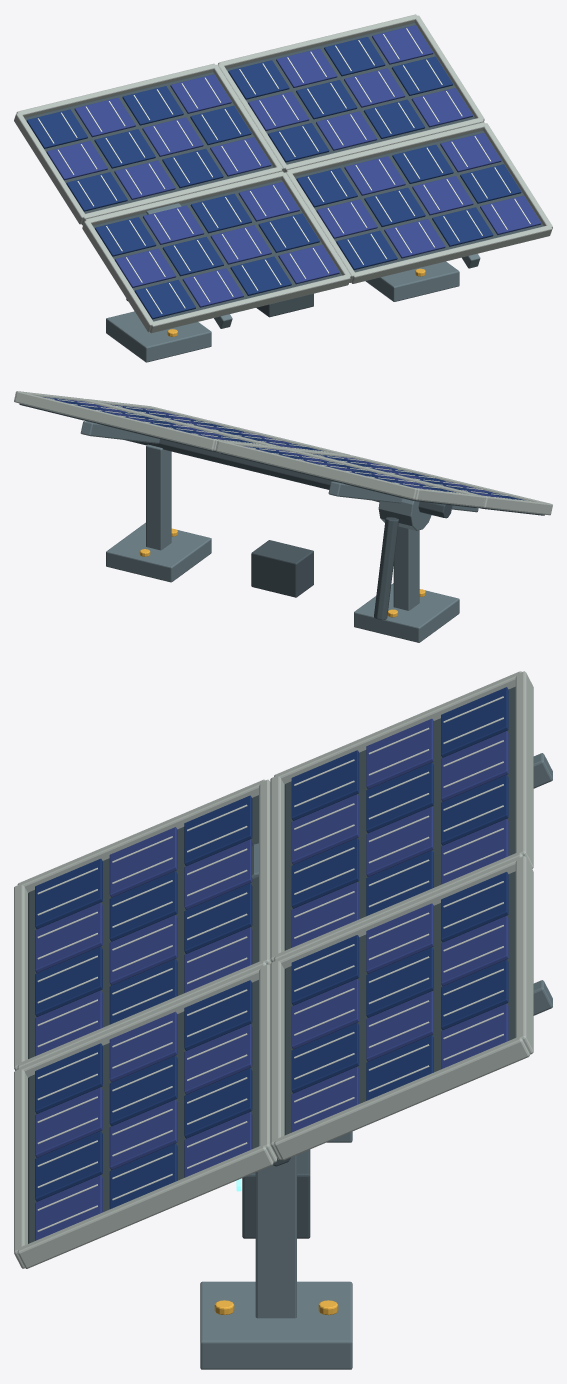
File: solar_panel_rack_d0.glb
3 renders of one model, top to bottom at view 1: azimuth 30°, elevation 25°; view 2: azimuth 150°, elevation 25°; view 3: azimuth 270°, elevation 25°, orthographic. The views are drawn at different scales.
Visible parts, largest first — view 1: PV_BACKING_002, PV_BACKING_001, PV_BACKING_003, PV_BACKING, RACK_ANCHOR_FOOTING, PANEL_ALUMINUM_END_FRAME, PANEL_ALUMINUM_END_FRAME_004, RACK_ANCHOR_FOOTING_001, PANEL_ALUMINUM_END_FRAME_003, PANEL_ALUMINUM_END_FRAME_007, PANEL_ALUMINUM_END_FRAME_005, PANEL_ALUMINUM_END_FRAME_001 (+59 smaller); view 2: RACK_ANCHOR_FOOTING_001, RACK_ANCHOR_FOOTING, RACK_JUNCTION_BOX, TRACKING_SUPPORT_MAST_001, PANEL_ALUMINUM_END_FRAME_003, PANEL_ALUMINUM_END_FRAME_007, TRACKING_AXLE, TRACKING_SUPPORT_MAST, TILT_ACTUATOR, TRACKING_DRIVE, REAR_MOUNTING_RAIL, PANEL_ALUMINUM_SIDE_FRAME (+8 smaller); view 3: RACK_ANCHOR_FOOTING_001, TRACKING_SUPPORT_MAST_001, PANEL_ALUMINUM_SIDE_FRAME_005, PANEL_ALUMINUM_SIDE_FRAME_007, PV_BACKING_003, PV_BACKING_001, PV_BACKING_002, PV_BACKING, PANEL_ALUMINUM_END_FRAME_007, PANEL_ALUMINUM_END_FRAME_003, PHOTOVOLTAIC_CELL_001, PHOTOVOLTAIC_CELL_004 (+59 smaller).
Part boxes in pixels (bbox=[...]): PV_BACKING_002: bbox=[294, 130, 543, 272]; PV_BACKING_001: bbox=[24, 72, 273, 213]; PV_BACKING_003: bbox=[226, 22, 475, 164]; PV_BACKING: bbox=[93, 179, 342, 321]; RACK_ANCHOR_FOOTING: bbox=[106, 311, 211, 362]; PANEL_ALUMINUM_END_FRAME: bbox=[150, 275, 350, 333]; PANEL_ALUMINUM_END_FRAME_004: bbox=[351, 225, 551, 283]; RACK_ANCHOR_FOOTING_001: bbox=[365, 261, 459, 301]; PANEL_ALUMINUM_END_FRAME_003: bbox=[16, 63, 215, 117]; PANEL_ALUMINUM_END_FRAME_007: bbox=[218, 14, 416, 68]; PANEL_ALUMINUM_END_FRAME_005: bbox=[286, 122, 485, 176]; PANEL_ALUMINUM_END_FRAME_001: bbox=[85, 171, 283, 225]; RACK_ANCHOR_FOOTING_001: bbox=[106, 522, 211, 582]; RACK_ANCHOR_FOOTING: bbox=[354, 583, 459, 642]; RACK_JUNCTION_BOX: bbox=[251, 540, 313, 597]; TRACKING_SUPPORT_MAST_001: bbox=[146, 444, 171, 550]; PANEL_ALUMINUM_END_FRAME_003: bbox=[216, 440, 417, 499]; PANEL_ALUMINUM_END_FRAME_007: bbox=[15, 391, 215, 450]; TRACKING_AXLE: bbox=[125, 439, 452, 518]; TRACKING_SUPPORT_MAST: bbox=[393, 526, 419, 610]; TILT_ACTUATOR: bbox=[374, 517, 398, 619]; TRACKING_DRIVE: bbox=[378, 498, 431, 530]; REAR_MOUNTING_RAIL: bbox=[328, 481, 478, 512]; PANEL_ALUMINUM_SIDE_FRAME: bbox=[483, 496, 552, 515]; RACK_ANCHOR_FOOTING_001: bbox=[200, 1281, 352, 1369]; TRACKING_SUPPORT_MAST_001: bbox=[255, 1155, 296, 1318]; PANEL_ALUMINUM_SIDE_FRAME_005: bbox=[17, 1145, 273, 1268]; PANEL_ALUMINUM_SIDE_FRAME_007: bbox=[274, 1036, 529, 1160]; PV_BACKING_003: bbox=[284, 871, 515, 1135]; PV_BACKING_001: bbox=[284, 686, 515, 950]; PV_BACKING_002: bbox=[28, 980, 258, 1243]; PV_BACKING: bbox=[28, 795, 258, 1058]; PANEL_ALUMINUM_END_FRAME_007: bbox=[515, 856, 533, 1054]; PANEL_ALUMINUM_END_FRAME_003: bbox=[515, 671, 533, 868]; PHOTOVOLTAIC_CELL_001: bbox=[109, 827, 177, 897]; PHOTOVOLTAIC_CELL_004: bbox=[109, 871, 177, 941].
Bounding box in the file's own units: 4.88 × 2.3 × 3.01.
